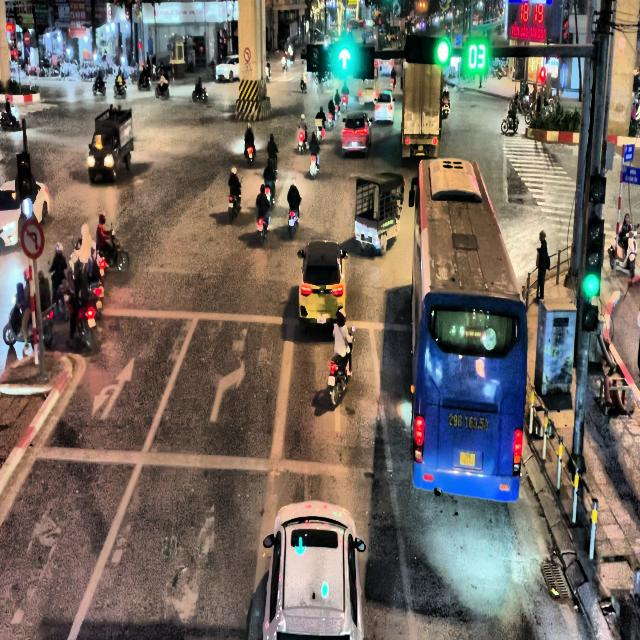BUS: (409, 156, 527, 502)
CAR: (247, 500, 366, 640), (297, 240, 348, 331), (341, 111, 372, 157), (374, 90, 395, 123)
MOTORBIKE: (2, 296, 54, 348), (64, 283, 98, 350), (328, 326, 355, 406), (98, 229, 129, 272), (0, 101, 19, 130), (257, 211, 270, 246), (228, 192, 241, 223), (501, 111, 519, 133), (288, 207, 299, 238), (244, 141, 255, 166), (192, 86, 208, 102), (310, 152, 319, 179), (92, 78, 106, 95), (264, 183, 274, 206), (298, 128, 307, 153), (156, 82, 170, 98), (442, 90, 450, 118), (114, 80, 126, 98), (138, 74, 150, 90), (326, 112, 334, 130), (300, 75, 307, 92)
TRUCK: (87, 104, 134, 183)
